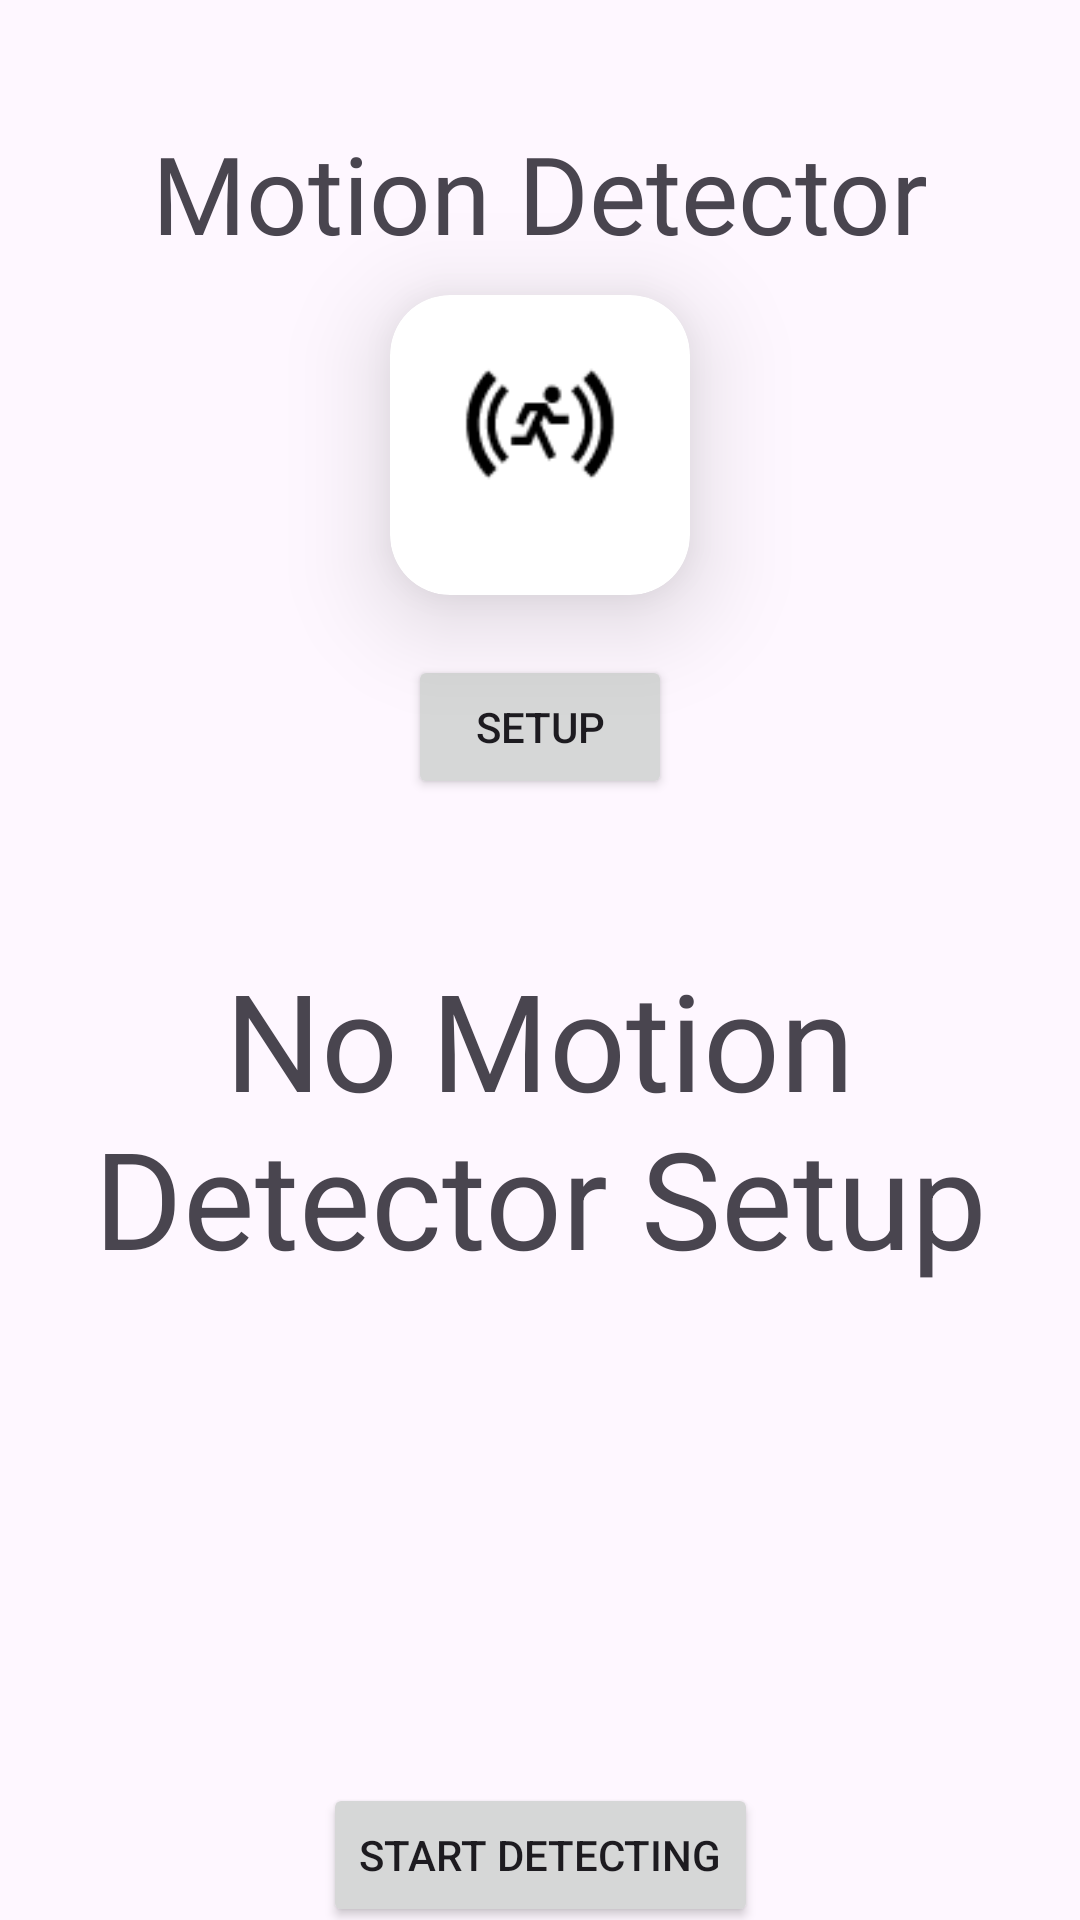

Locate icon controls on the screen. Image size 1080x1920, boxes as (x1, y1, x2, y2).
motion sensor: (465, 370, 615, 478)
